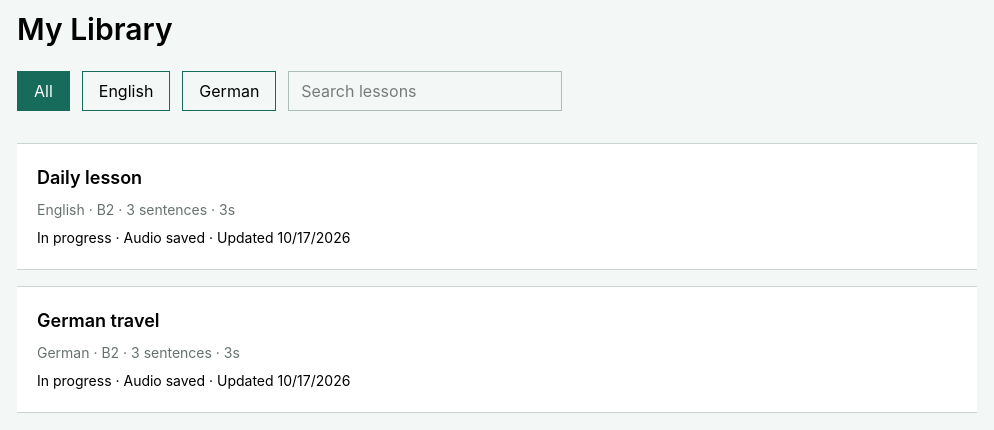
Test: My Library › filters by language and searches title or source
The image size is (994, 430).
Check: the text "German travel" is shown, box left=37, top=310, right=160, bottom=331
Click the button "German": (229, 91) left=182, top=71, right=276, bottom=111
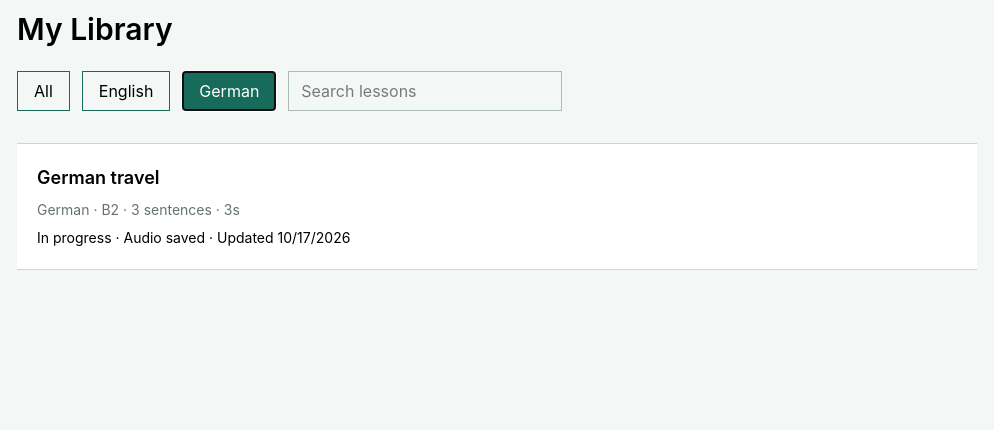
Check: the text "German travel" is shown, box left=37, top=167, right=160, bottom=188
Check: the button "Daily lesson" is gone
Click the button "All": (43, 91) left=17, top=71, right=70, bottom=111
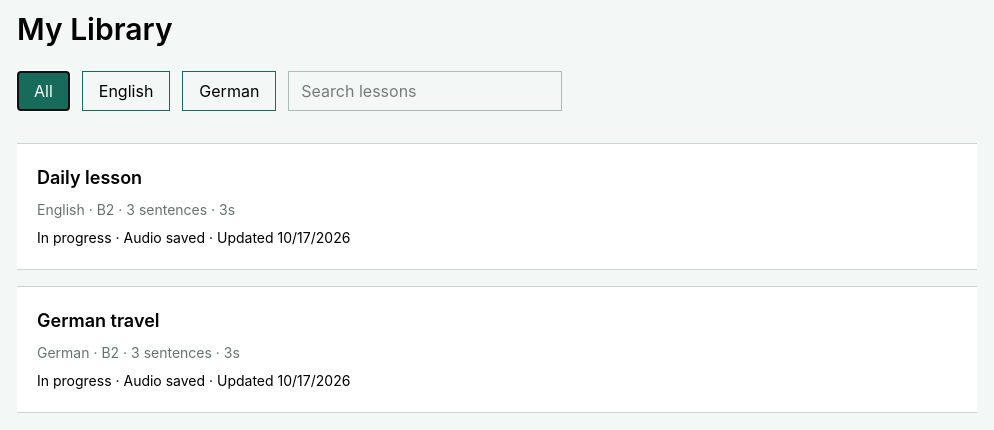
In the field named "Search My Library": (425, 91) left=288, top=71, right=562, bottom=111, type "youtube.com"
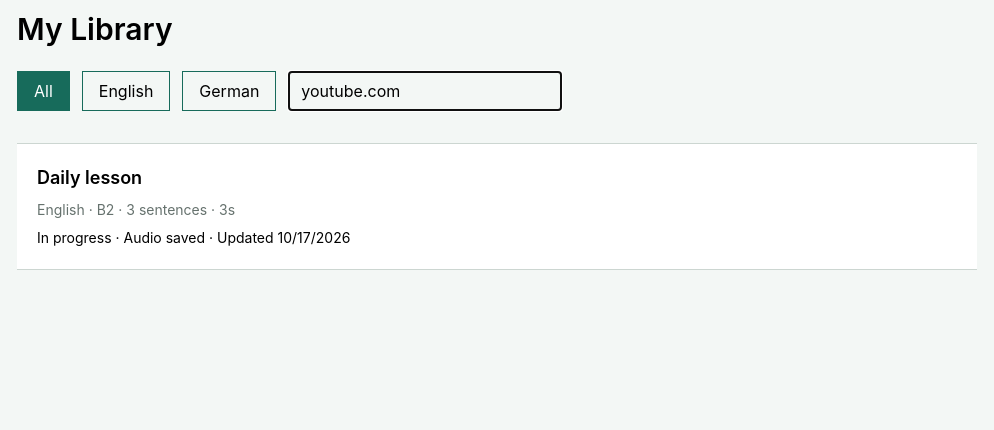
Check: the text "Daily lesson" is shown, box left=37, top=167, right=142, bottom=188
Check: the button "German travel" is gone
